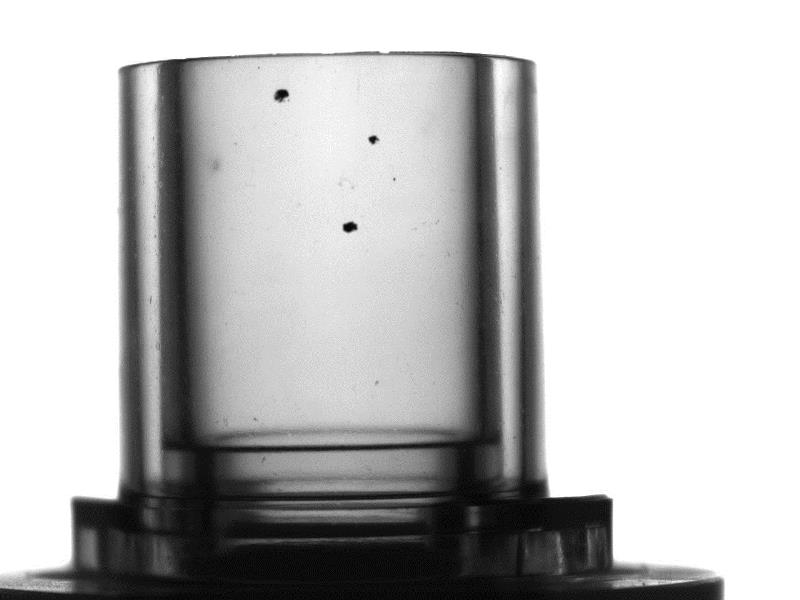blackdot: (271, 86, 293, 103), (342, 218, 360, 235), (367, 132, 383, 146)
